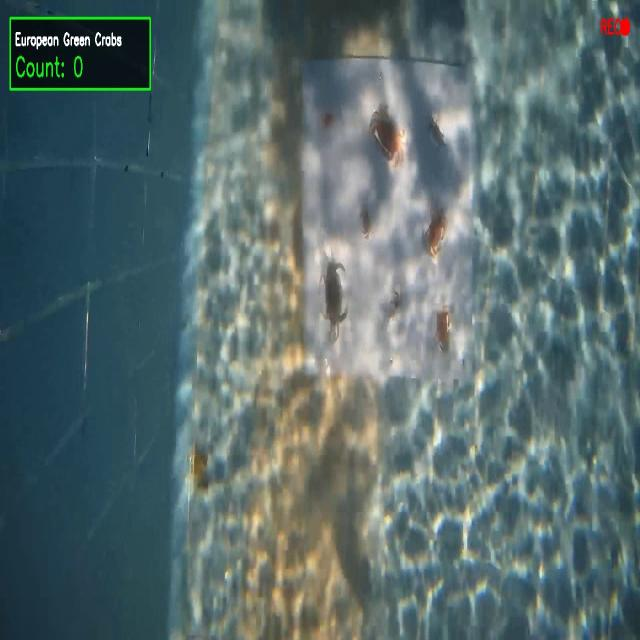European_Green_Crab: (318, 245, 347, 344), (424, 109, 451, 159), (385, 282, 409, 323)
